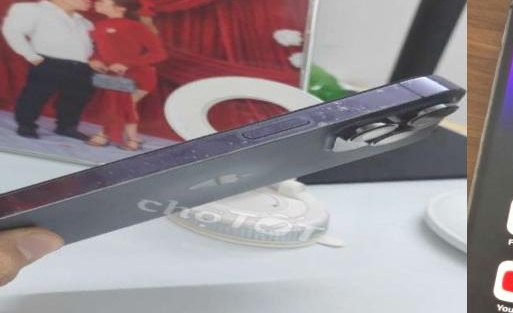scratch: (264, 53, 453, 160), (134, 109, 267, 202), (38, 153, 129, 219)
